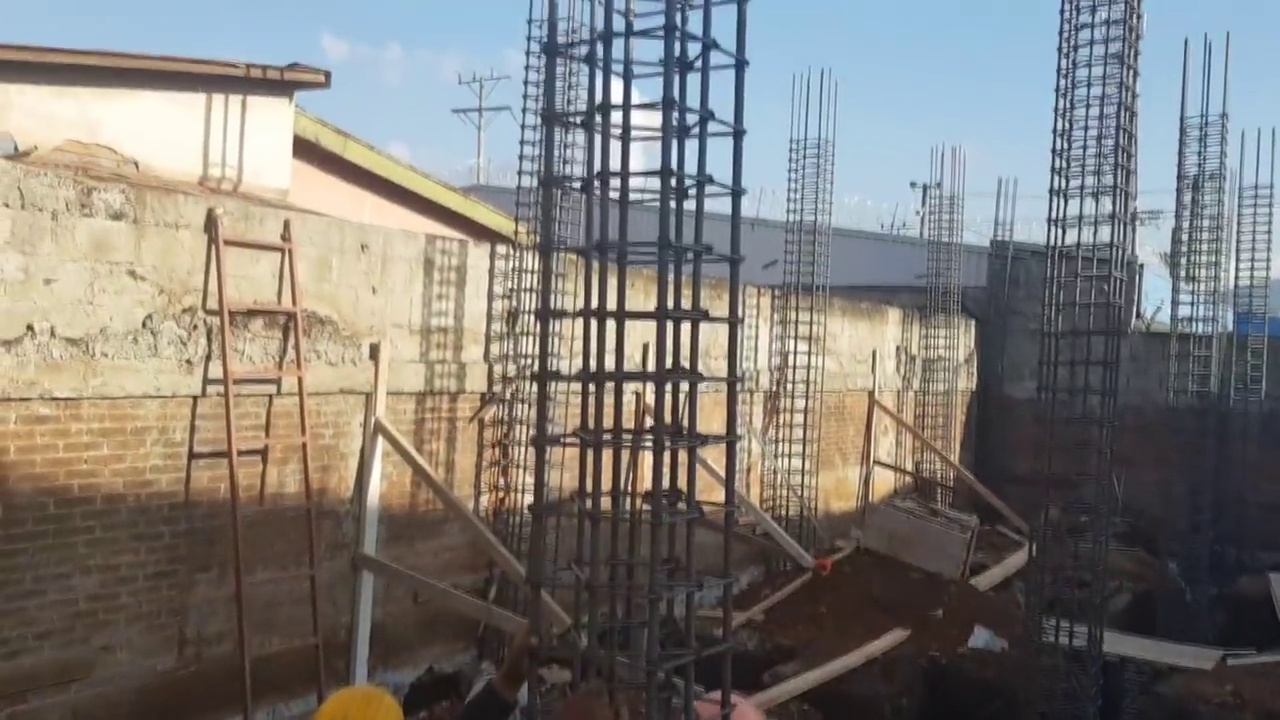helmet: (314, 681, 404, 718)
